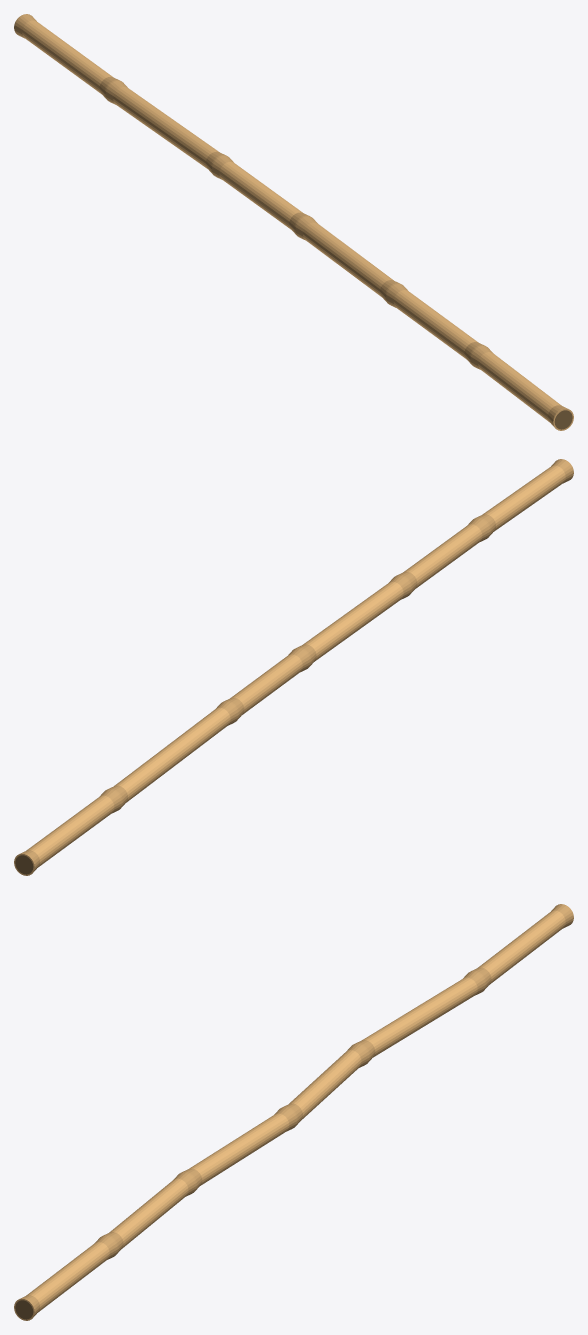
Rendered from Bamboo.fbx.
3 views of the same model, one above another, from view 1: azimuth 30°, elevation 25°; view 2: azimuth 150°, elevation 25°; view 3: azimuth 330°, elevation 25° (orthographic).
Parts seen in each view (by area): view 1: Cylinder.001; view 2: Cylinder.001; view 3: Cylinder.001.
Part boxes in pixels (x1,y1,x2,y2): Cylinder.001: [14, 14, 573, 430]; Cylinder.001: [14, 459, 573, 875]; Cylinder.001: [14, 904, 573, 1320].
Bounding box in the file's own units: 26.2 × 27.89 × 931.
